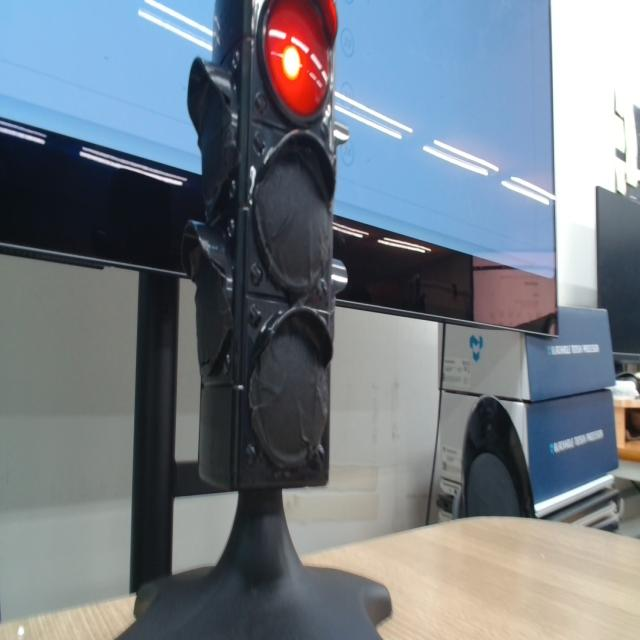red_light: (265, 0, 329, 117)
